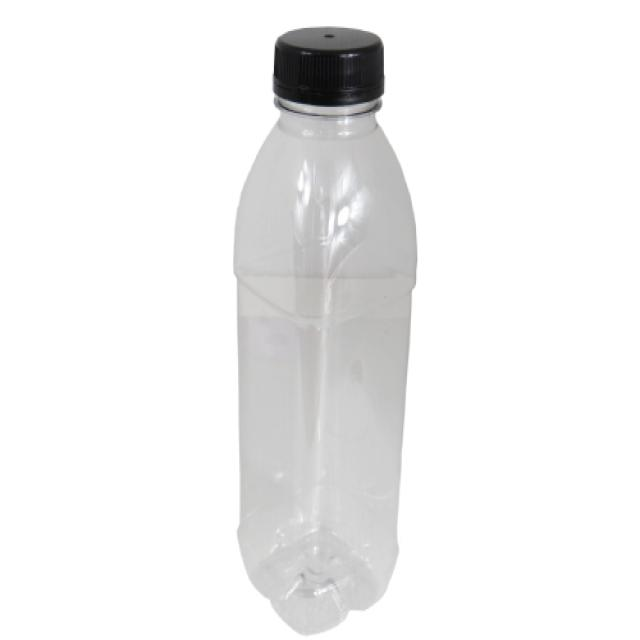bottle: (234, 27, 416, 633)
